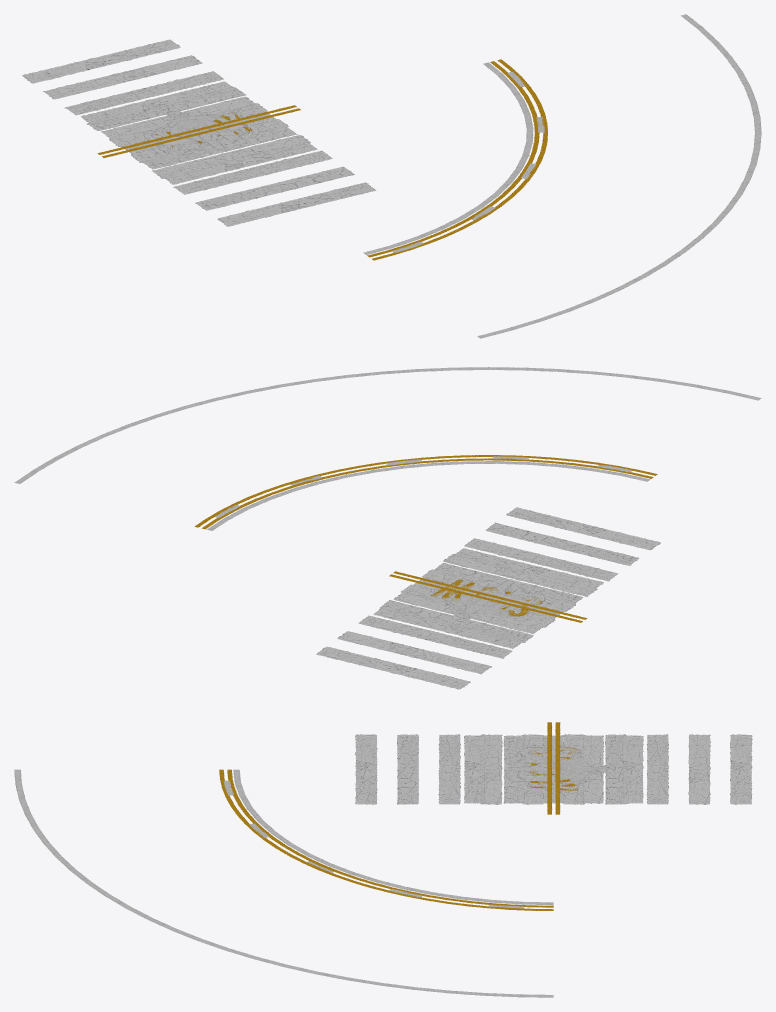
The model's file is decal.glb.
The picture shows the model from 3 angles, top to bottom: view 1: azimuth 30°, elevation 25°; view 2: azimuth 150°, elevation 25°; view 3: azimuth 270°, elevation 25°; orthographic projection. The views are drawn at different scales.
Visible parts, largest first — view 1: Decal_Crosswalk_Wide, Decal_Crosswalk, Decal_Curve_4LaneShort_Stripe, Decal_Curve_4LaneShort_DoubleYellow, Decal_Curve_2Lane_Stripe, Decal_DoubleYellow_Straight, Decal_Bikelane, Decal_ArrowTurnLeft, Decal_ArrowTurnRight, Decal_Curve_4LaneShort; view 2: Decal_Crosswalk_Wide, Decal_Crosswalk, Decal_Curve_4LaneShort_Stripe, Decal_Curve_4LaneShort_DoubleYellow, Decal_Curve_2Lane_Stripe, Decal_DoubleYellow_Straight, Decal_Bikelane, Decal_ArrowForwardLeft, Decal_ArrowTurnLeft, Decal_Curve_4LaneShort, Decal_Slow; view 3: Decal_Crosswalk_Wide, Decal_Crosswalk, Decal_Curve_4LaneShort_Stripe, Decal_Curve_4LaneShort_DoubleYellow, Decal_Curve_2Lane_Stripe, Decal_DoubleYellow_Straight, Decal_ArrowTurnLeft, Decal_Bikelane, Decal_ArrowTurnRight, Decal_ArrowForwardLeft, Decal_Curve_4LaneShort, Decal_Only.
Part boxes in pixels (x1,y1,x2,y2): Decal_Crosswalk_Wide: [22, 39, 376, 226]; Decal_Crosswalk: [81, 81, 317, 184]; Decal_Curve_4LaneShort_Stripe: [477, 14, 761, 338]; Decal_Curve_4LaneShort_DoubleYellow: [367, 59, 547, 260]; Decal_Curve_2Lane_Stripe: [363, 62, 533, 254]; Decal_DoubleYellow_Straight: [97, 105, 300, 157]; Decal_Bikelane: [158, 108, 258, 154]; Decal_ArrowTurnLeft: [155, 116, 247, 145]; Decal_ArrowTurnRight: [170, 115, 222, 155]; Decal_Curve_4LaneShort: [392, 71, 544, 252]; Decal_Crosswalk_Wide: [316, 507, 660, 689]; Decal_Crosswalk: [373, 548, 603, 648]; Decal_Curve_4LaneShort_Stripe: [14, 367, 761, 483]; Decal_Curve_4LaneShort_DoubleYellow: [194, 455, 657, 529]; Decal_Curve_2Lane_Stripe: [207, 461, 650, 530]; Decal_DoubleYellow_Straight: [389, 571, 587, 622]; Decal_Bikelane: [446, 575, 545, 621]; Decal_ArrowForwardLeft: [463, 580, 534, 615]; Decal_ArrowTurnLeft: [459, 575, 511, 614]; Decal_Curve_4LaneShort: [215, 456, 632, 517]; Decal_Slow: [430, 579, 542, 616]; Decal_Crosswalk_Wide: [355, 734, 752, 804]; Decal_Crosswalk: [464, 735, 643, 803]; Decal_Curve_4LaneShort_Stripe: [14, 769, 553, 997]; Decal_Curve_4LaneShort_DoubleYellow: [219, 769, 553, 910]; Decal_Curve_2Lane_Stripe: [233, 769, 553, 904]; Decal_DoubleYellow_Straight: [547, 722, 560, 814]; Decal_ArrowTurnLeft: [509, 752, 593, 781]; Decal_Bikelane: [516, 747, 615, 791]; Decal_ArrowTurnRight: [509, 756, 594, 785]; Decal_ArrowForwardLeft: [509, 748, 601, 774]; Decal_Curve_4LaneShort: [223, 780, 524, 908]; Decal_Only: [529, 747, 578, 790].
Size of what is drawn, in the model's own units: 17.8 by 0.038 by 20.51.
Materials: 1 (1 with a texture image).
